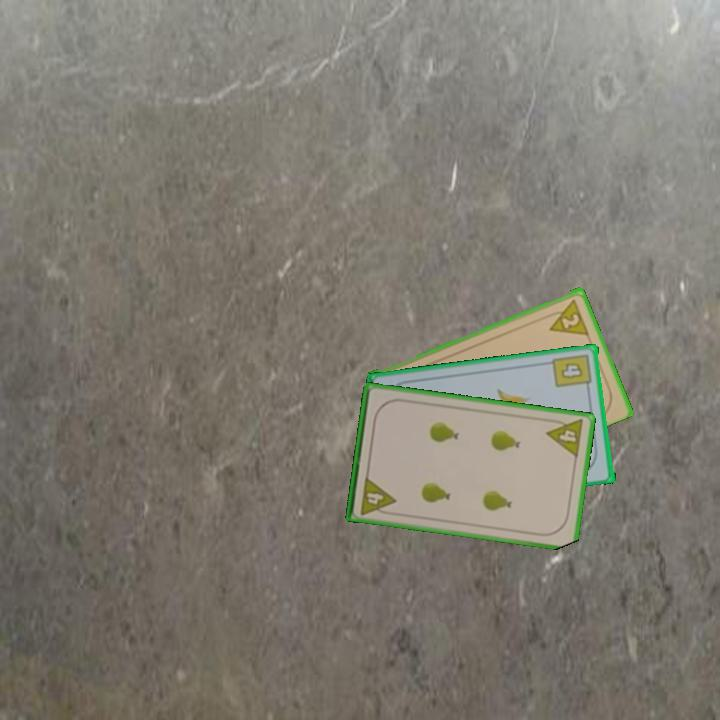2p: (542, 295, 591, 338)
4b: (550, 350, 595, 394)
4p: (543, 415, 587, 460), (357, 473, 398, 518)
